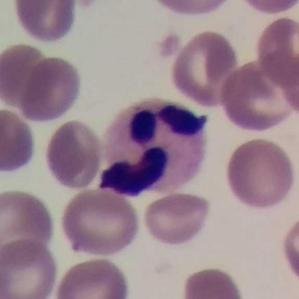Neutrophil: (93, 91, 214, 202)
Platelets: (153, 31, 182, 62)
RBC: (216, 58, 297, 134), (58, 186, 142, 259), (168, 27, 242, 109), (221, 136, 298, 212), (18, 54, 85, 125), (41, 117, 104, 191), (0, 186, 57, 266), (140, 190, 215, 250), (0, 41, 56, 110), (0, 236, 60, 299), (52, 255, 131, 299), (253, 14, 299, 86), (10, 0, 80, 45), (0, 106, 38, 178), (178, 264, 246, 299), (277, 208, 299, 290), (277, 43, 299, 123), (148, 0, 236, 20), (233, 0, 299, 17)
